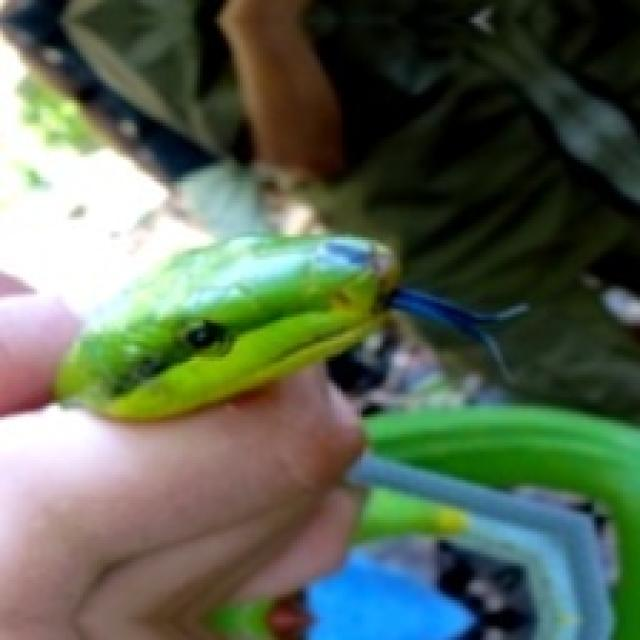red-tailed green ratsnake: (54, 234, 394, 417)
